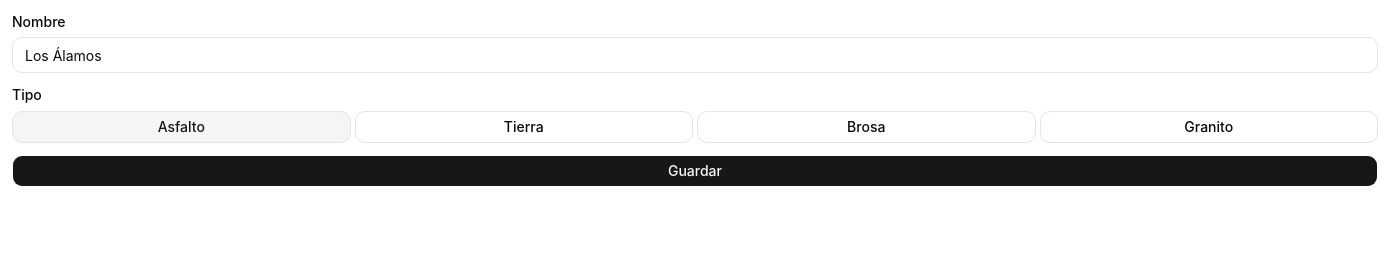
Scenario: CalleEditForm › loads and saves the calle values
The width and height of the screenshot is (1390, 265).
Replace the text in the field labelled "Nombre" with "San Martín" at (695, 55), box [12, 37, 1378, 73]
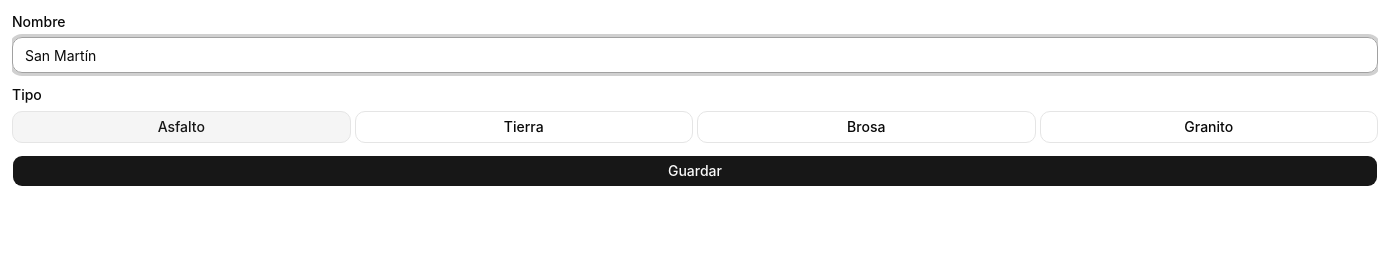
Click the button "Tierra" at (524, 126), box [354, 110, 693, 142]
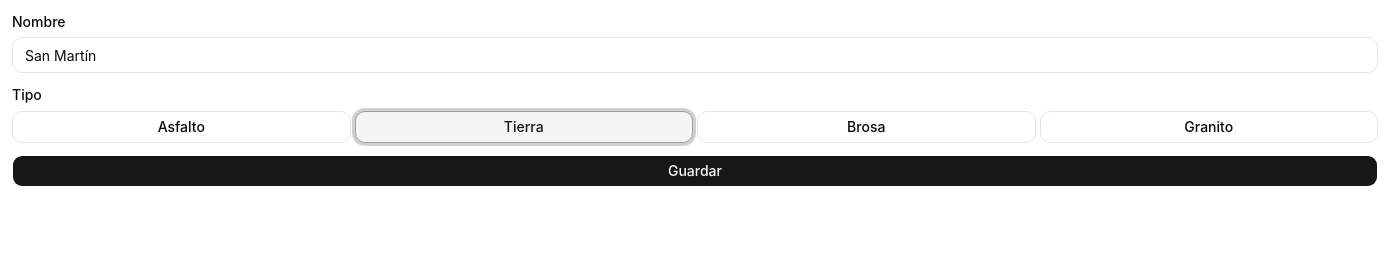
Click the button "Guardar" at (695, 170), box [12, 154, 1378, 186]
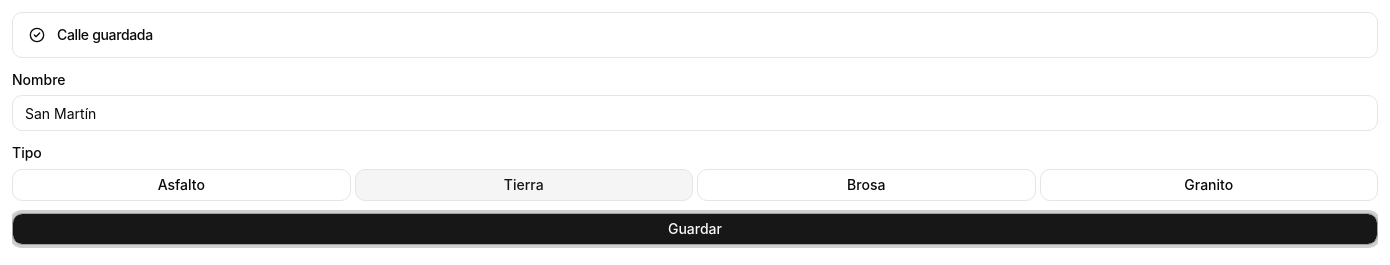
Now the message reads "Calle guardada", box [57, 26, 153, 43]
